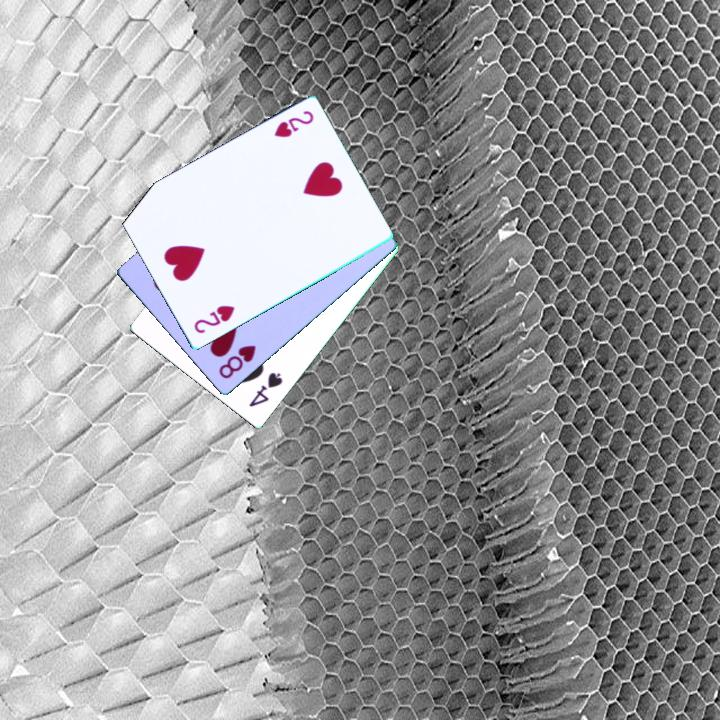2h: (190, 302, 238, 337), (270, 107, 316, 141)
4s: (245, 369, 286, 410)
8h: (215, 342, 259, 382)
